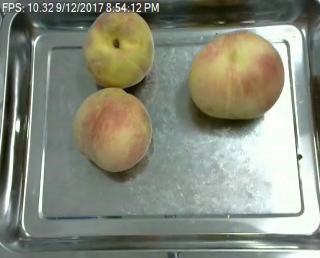Peach: (189, 29, 283, 118), (72, 85, 153, 171), (84, 7, 155, 86)
